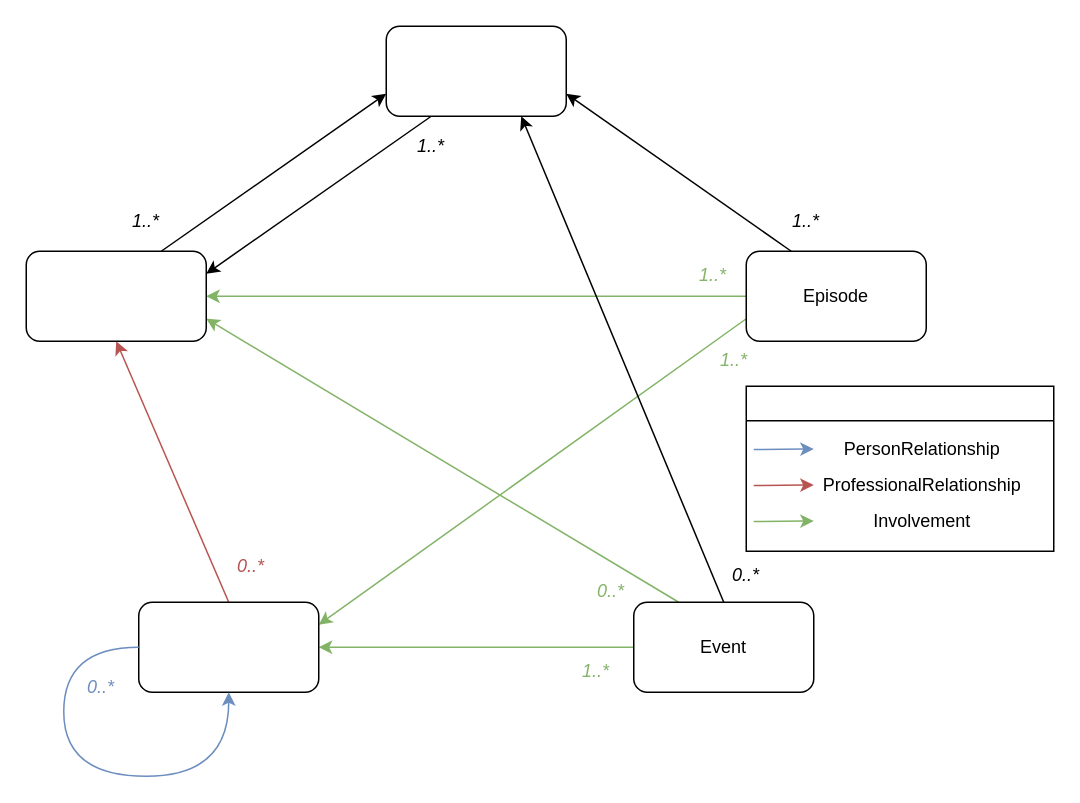
Some shapes in this 1080 by 803 pixel diagram are drawn without their labels. Here are the shapes that lost their labels. From the top down, the box of each, then its label:
(385, 25, 566, 116): Service
(25, 250, 206, 341): Professional
(745, 385, 1054, 551): Predicates
(137, 601, 319, 692): Person
